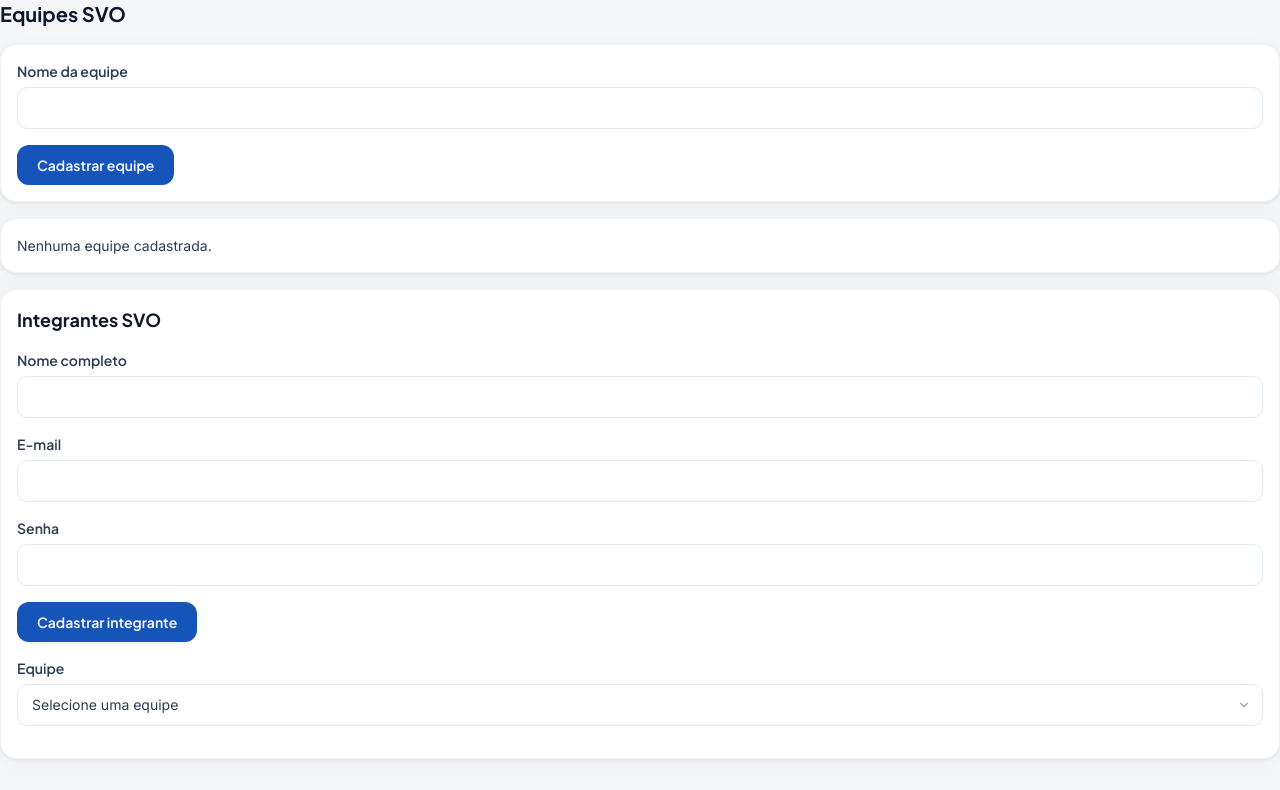
Test: Equipes SVO › carrega lista e cadastra equipe
This screenshot has width=1280, height=790.
Check: the text "Nenhuma equipe cadastrada." is shown, box [17, 237, 212, 254]
Step 1. Type "Alfa" into the field labelled "Nome da equipe" → {"x": 640, "y": 108}, box [17, 87, 1263, 129]
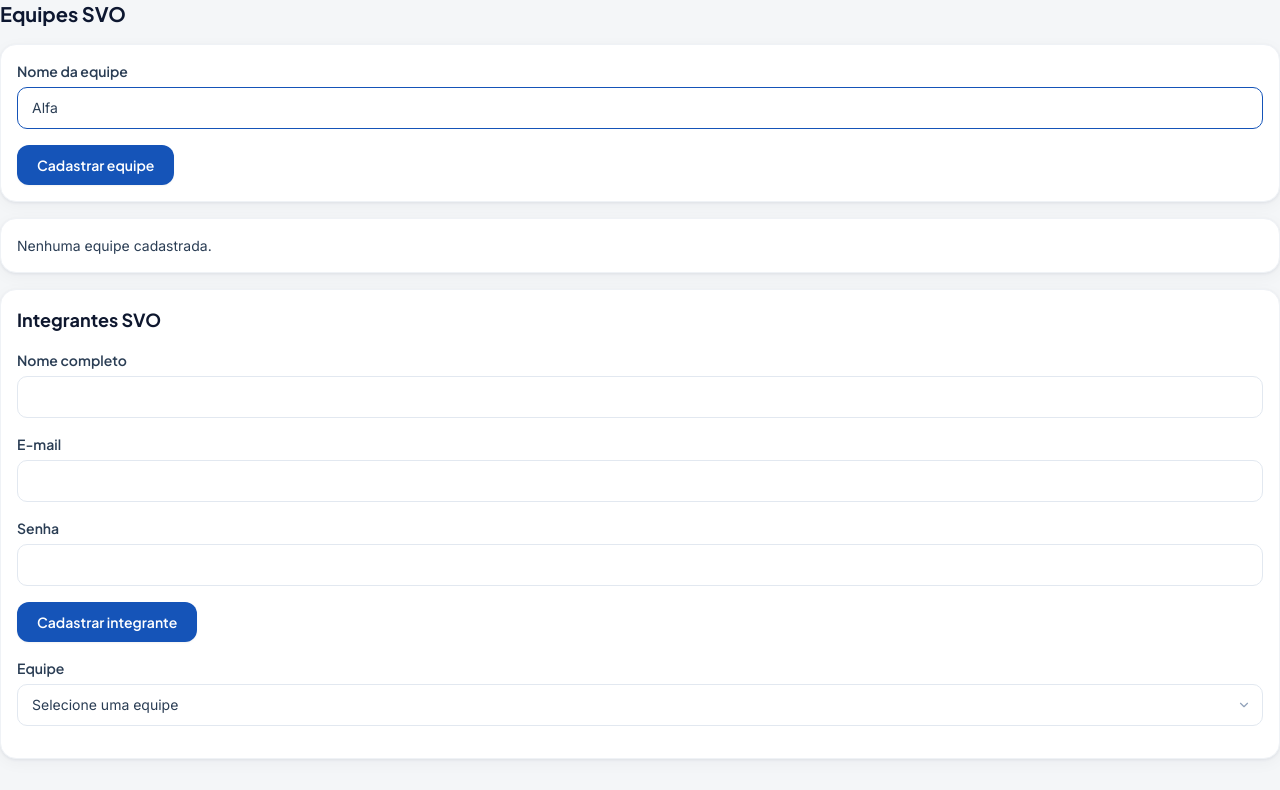
Step 2. Click the button "Cadastrar equipe" → {"x": 96, "y": 165}, box [17, 145, 174, 185]
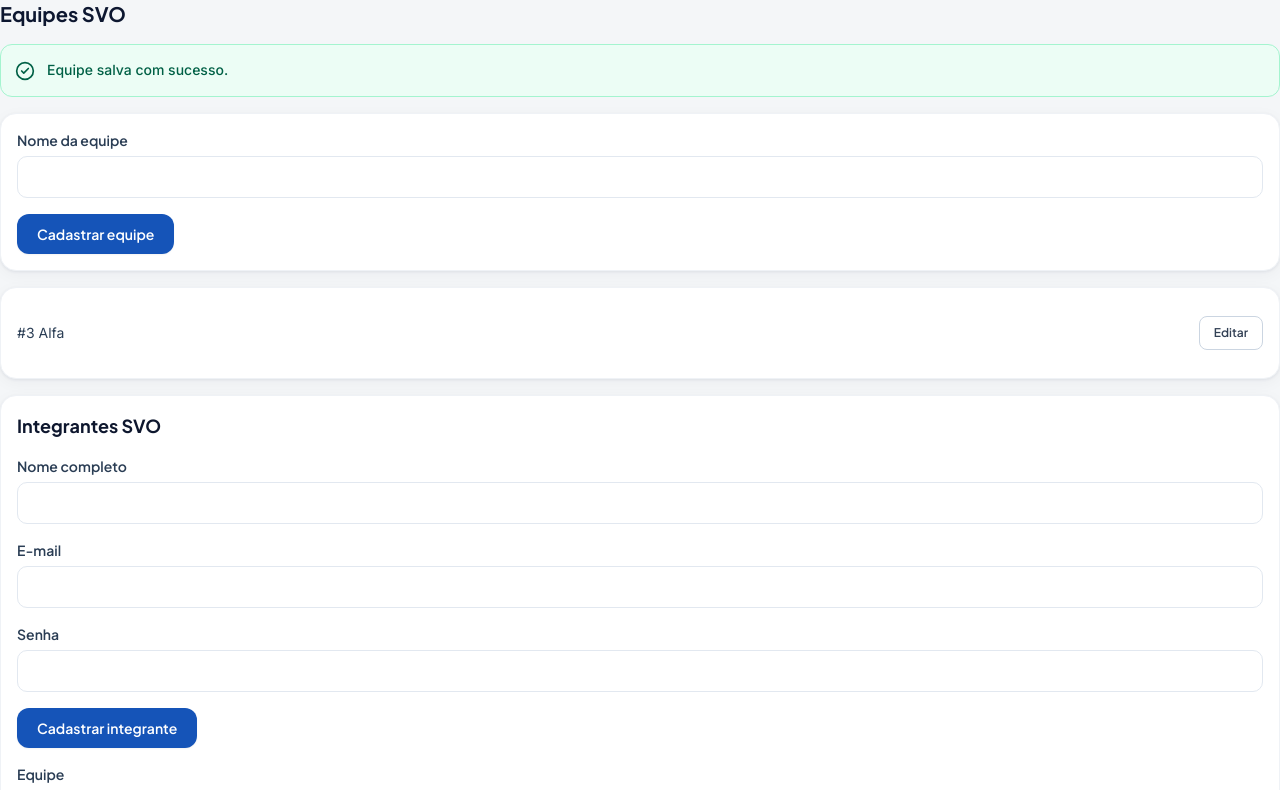
Check: the text "#3 Alfa" is shown, box [17, 322, 64, 343]
